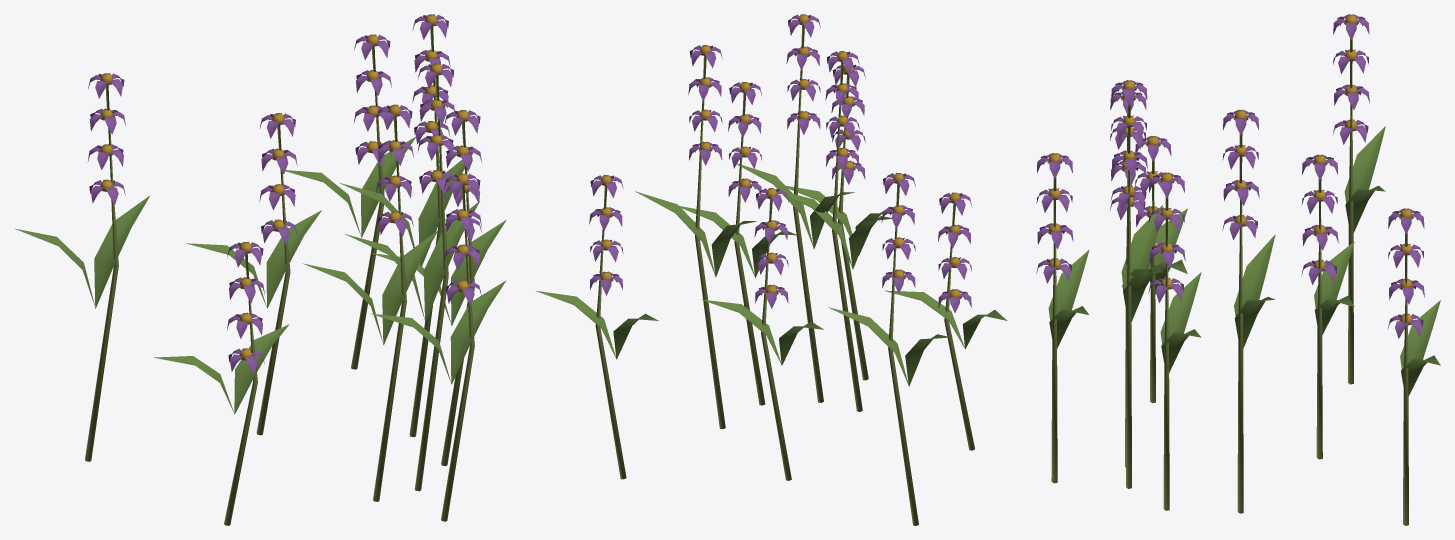
File: flowers_1_lod0.glb
3 renders of one model, left to right at view 1: azimuth 30°, elevation 25°; view 2: azimuth 150°, elevation 25°; view 3: azimuth 270°, elevation 25°, orthographic. The views are drawn at different scales.
Parts seen in each view (by area): view 1: flowers_1_lod0; view 2: flowers_1_lod0; view 3: flowers_1_lod0.
Boxes of the visible parts, left/top/right/bottom form: flowers_1_lod0: left=15, top=14, right=506, bottom=525; flowers_1_lod0: left=535, top=14, right=1007, bottom=525; flowers_1_lod0: left=1036, top=14, right=1440, bottom=525.
Bounding box in the file's own units: 0.5697 × 0.5329 × 0.4715.
